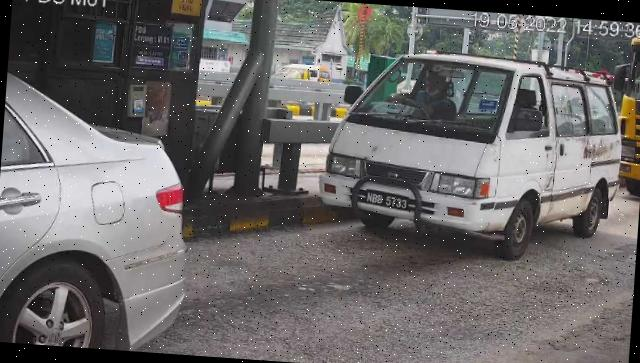License_Plate: (364, 189, 412, 215)
van: (316, 46, 629, 268)
